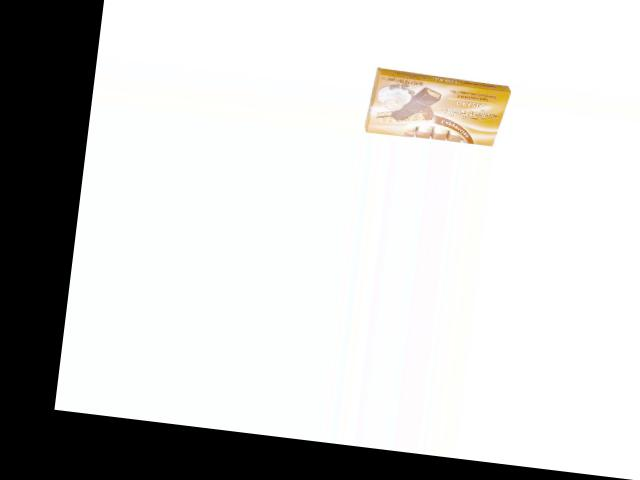chocolate: (363, 66, 514, 150)
